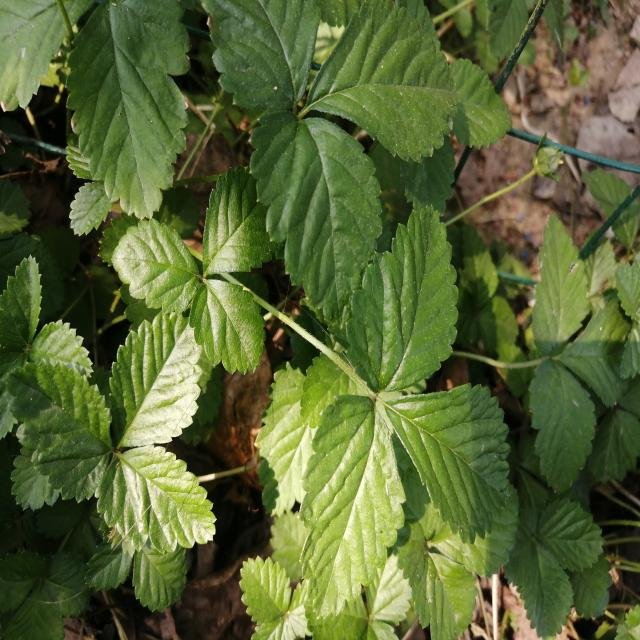Mock_strawberry: (307, 207, 505, 618)
